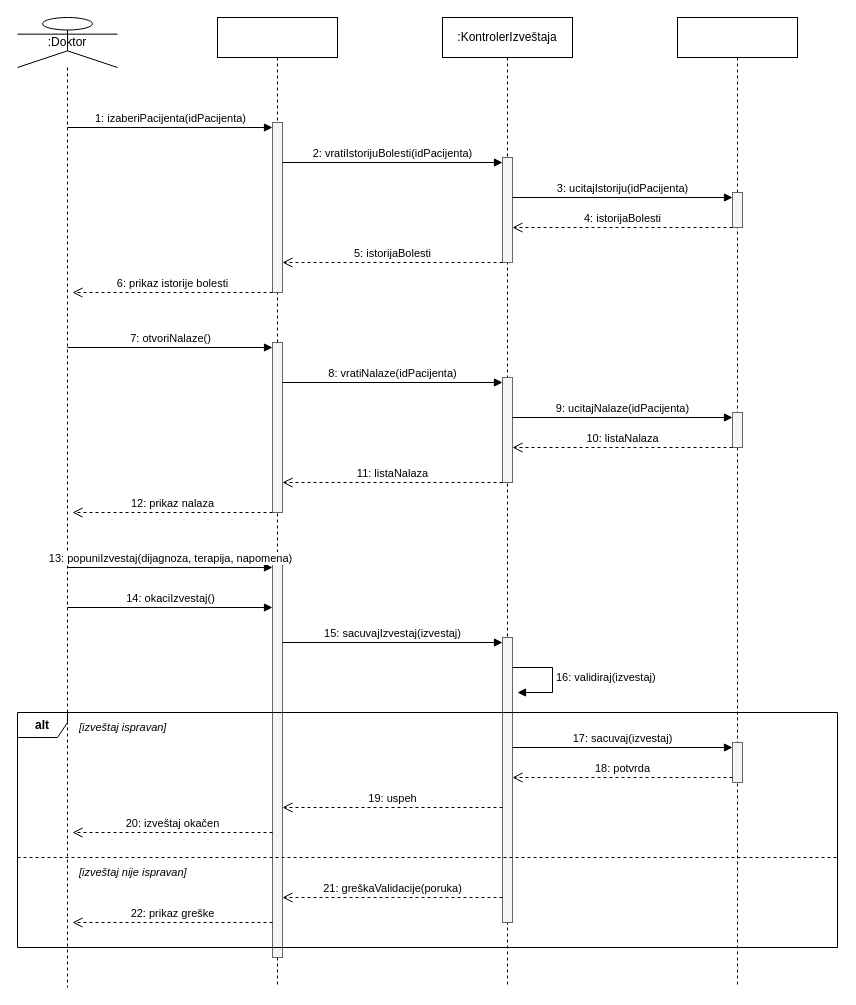
Some shapes in this 856 by 1005 pixel diagram are drawn without their labels. The shapes that lost their labels are listed below. From the top down, each one's box as (x1, y1, x2, y2) in pixels, then its label:
(216, 16, 338, 988): :Forma za izveštaj
(676, 16, 798, 988): :BazaPodataka
